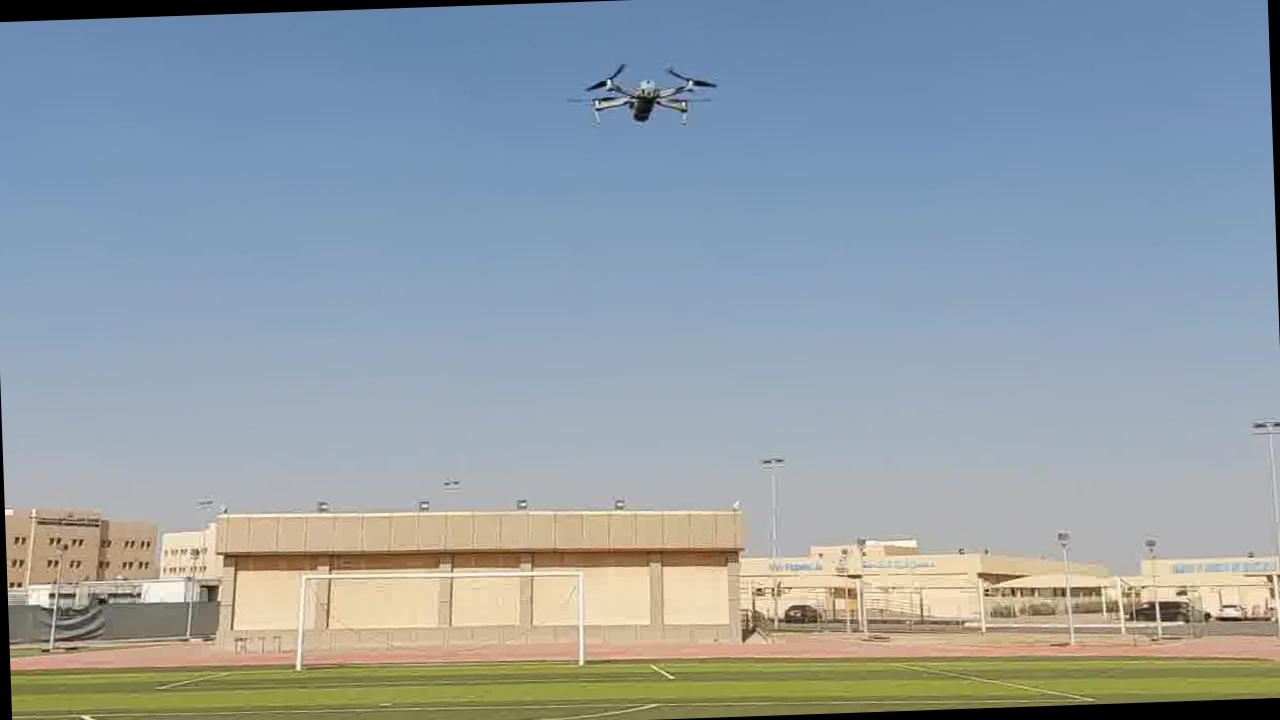drone: (574, 53, 734, 136)
